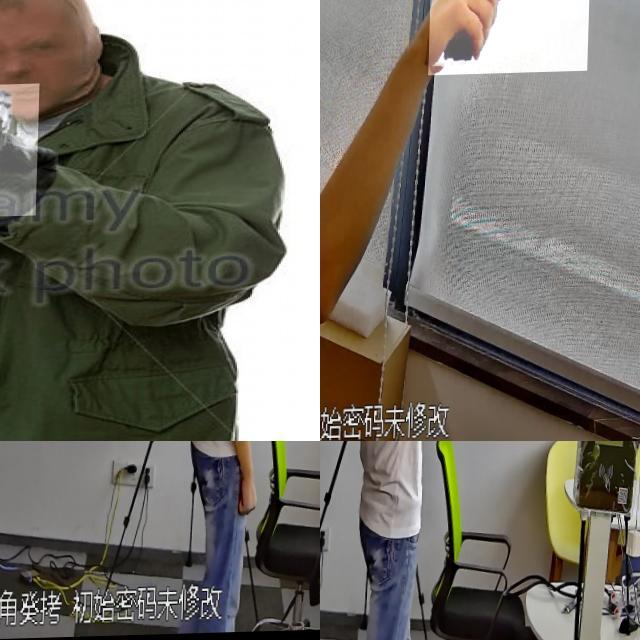gun-knife-thesis - v11 Yolov5 augmented: (429, 0, 592, 86), (0, 85, 50, 219), (514, 441, 569, 476)
